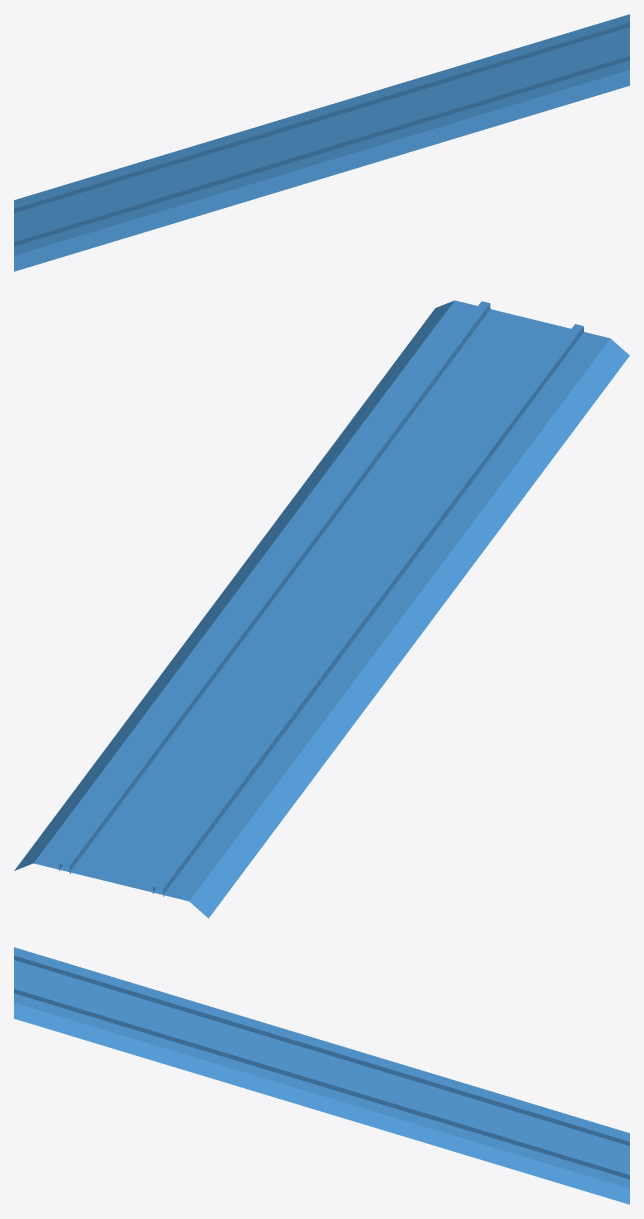
The model's file is TramRails_Incline.fbx.
3 renders of one model, top to bottom at view 1: azimuth 90°, elevation 25°; view 2: azimuth 150°, elevation 25°; view 3: azimuth 270°, elevation 25°, orthographic. The views are drawn at different scales.
Visible parts, largest first — view 1: TramRails_Incline; view 2: TramRails_Incline; view 3: TramRails_Incline.
Part boxes in pixels (x1,y1,x2,y2): TramRails_Incline: (14, 14, 629, 271); TramRails_Incline: (14, 300, 629, 918); TramRails_Incline: (14, 947, 629, 1204).
Bounding box in the file's own units: 240 × 321 × 900.
